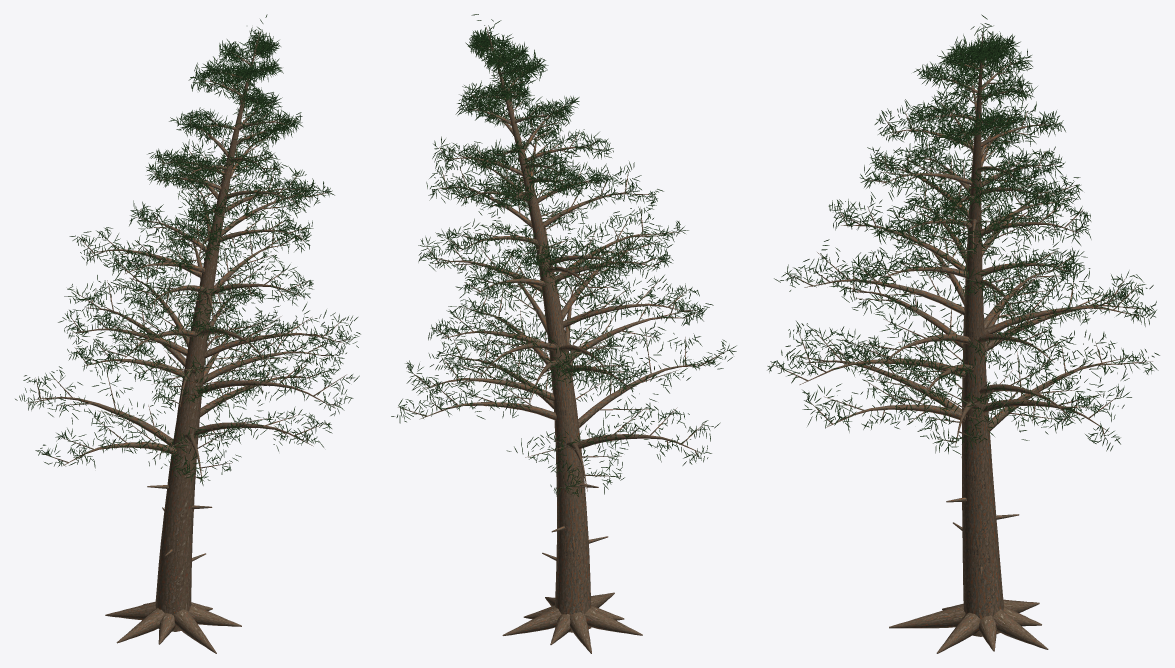
Rendered from pine_windswept_lod1.gltf.
3 views of the same model, side by side, from view 1: azimuth 30°, elevation 25°; view 2: azimuth 150°, elevation 25°; view 3: azimuth 270°, elevation 25° (orthographic). The views are drawn at different scales.
Parts seen in each view (by area): view 1: pine_windswept_lod1; view 2: pine_windswept_lod1; view 3: pine_windswept_lod1.
Part boxes in pixels (x1=…): pine_windswept_lod1: x1=15, y1=14, x2=360, y2=653; pine_windswept_lod1: x1=391, y1=14, x2=736, y2=653; pine_windswept_lod1: x1=767, y1=14, x2=1159, y2=653.
Size of the model in its own units: 4.46 by 8.69 by 4.73.
2 materials, 2 textured.
